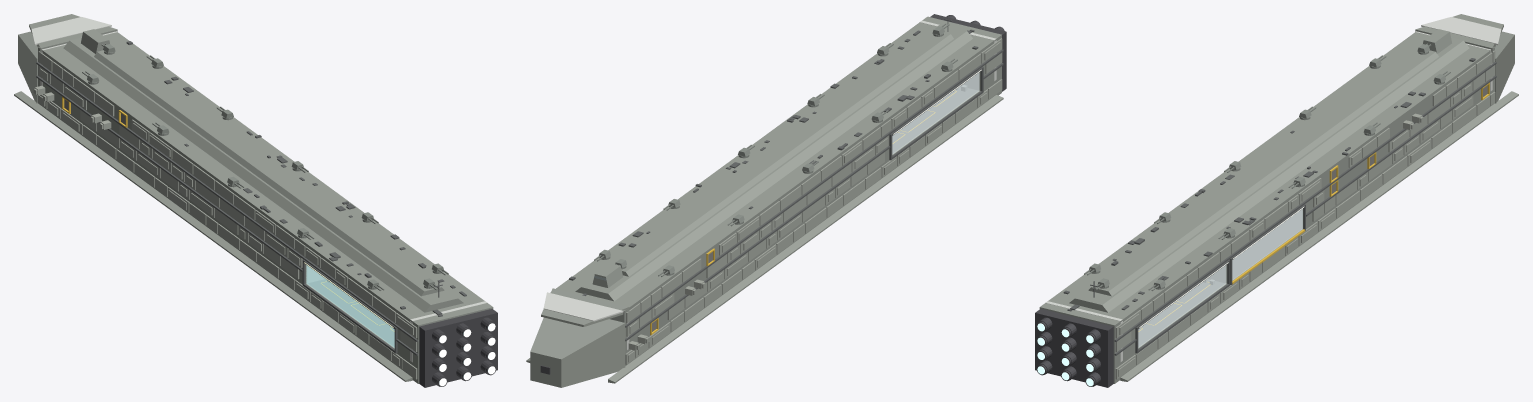
The model's file is ship_XL_v2.glb.
3 renders of one model, left to right at view 1: azimuth 30°, elevation 25°; view 2: azimuth 150°, elevation 25°; view 3: azimuth 330°, elevation 25°, orthographic.
Parts seen in each view (by area): view 1: XL_Hull-col, XL_Armor, XL_Engines, XL_Trim, XL_HangarShield_Port, XL_Accent, XL_Decks-col, XL_Details, XL_EngineGlow; view 2: XL_Hull-col, XL_Armor, XL_Trim, XL_HangarShield_Port, XL_Accent, XL_Decks-col, XL_Details, XL_Engines; view 3: XL_Hull-col, XL_Armor, XL_Engines, XL_Trim, XL_HangarShield_Starboard, XL_CargoBayShield, XL_Accent, XL_CargoBayDoor-col, XL_Decks-col, XL_Details, XL_Hazard, XL_EngineGlow.
Boxes of the visible parts, left/top/right/bottom form: XL_Hull-col: left=14, top=14, right=493, bottom=383; XL_Armor: left=37, top=51, right=417, bottom=379; XL_Engines: left=419, top=309, right=497, bottom=387; XL_Trim: left=36, top=62, right=418, bottom=355; XL_HangarShield_Port: left=306, top=265, right=394, bottom=347; XL_Accent: left=31, top=17, right=487, bottom=362; XL_Decks-col: left=308, top=279, right=394, bottom=346; XL_Details: left=126, top=41, right=466, bottom=316; XL_EngineGlow: left=439, top=323, right=495, bottom=386; XL_Hull-col: left=526, top=16, right=1003, bottom=387; XL_Armor: left=625, top=38, right=1002, bottom=364; XL_Trim: left=625, top=49, right=1003, bottom=341; XL_HangarShield_Port: left=892, top=72, right=979, bottom=154; XL_Accent: left=543, top=20, right=996, bottom=349; XL_Decks-col: left=892, top=86, right=977, bottom=153; XL_Details: left=569, top=15, right=978, bottom=295; XL_Engines: left=540, top=14, right=1006, bottom=374; XL_Hull-col: left=1039, top=14, right=1518, bottom=383; XL_Armor: left=1115, top=50, right=1495, bottom=379; XL_Engines: left=1035, top=309, right=1113, bottom=387; XL_Trim: left=1114, top=62, right=1496, bottom=355; XL_HangarShield_Starboard: left=1138, top=265, right=1226, bottom=347; XL_CargoBayShield: left=1232, top=209, right=1302, bottom=280; XL_Accent: left=1045, top=17, right=1501, bottom=362; XL_CargoBayDoor-col: left=1232, top=209, right=1302, bottom=279; XL_Decks-col: left=1138, top=279, right=1224, bottom=346; XL_Details: left=1063, top=58, right=1475, bottom=311; XL_Hazard: left=1138, top=82, right=1489, bottom=331; XL_EngineGlow: left=1037, top=323, right=1093, bottom=386.
Bounding box in the file's own units: 28.3 × 25.4 × 230.
